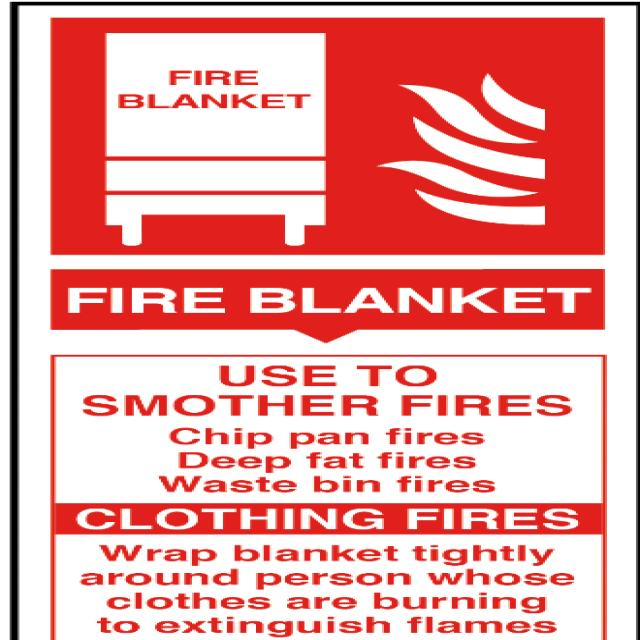fire signage: (23, 7, 621, 624)
